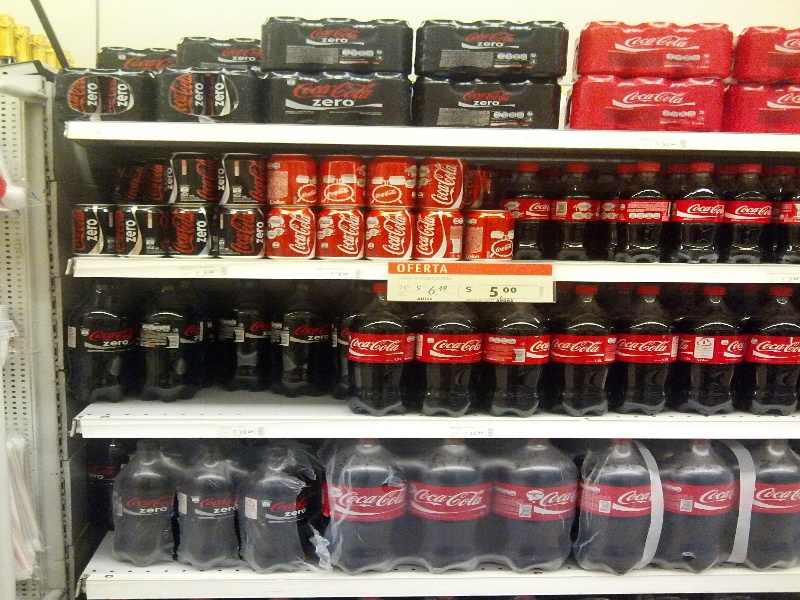lemonade: (494, 439, 577, 571), (408, 440, 493, 568), (323, 438, 399, 572), (112, 440, 180, 567), (64, 280, 133, 401), (612, 286, 674, 418), (677, 285, 737, 418), (741, 282, 800, 414), (346, 301, 414, 413), (553, 287, 612, 416), (417, 303, 482, 416), (483, 303, 545, 418), (668, 158, 725, 268), (725, 160, 778, 263), (617, 162, 664, 264)
